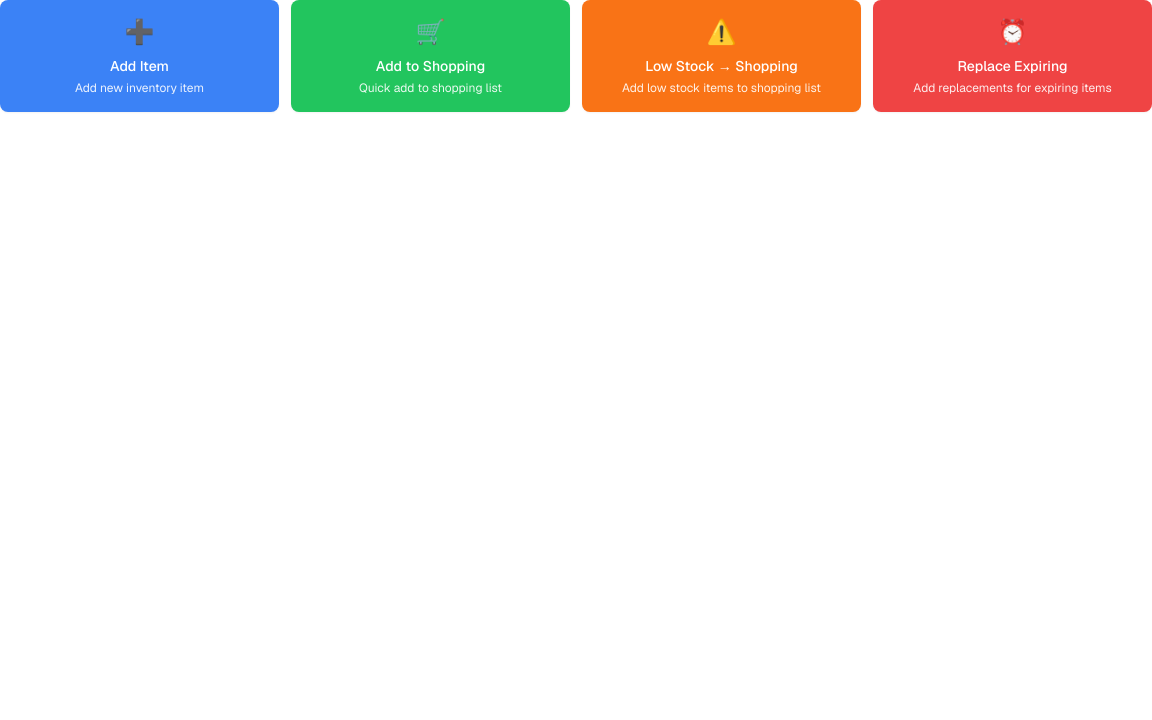
Test: QuickActionsPanel › opens add item modal when clicked
Click the text "Add Item" at (139,66), box [110, 57, 169, 75]
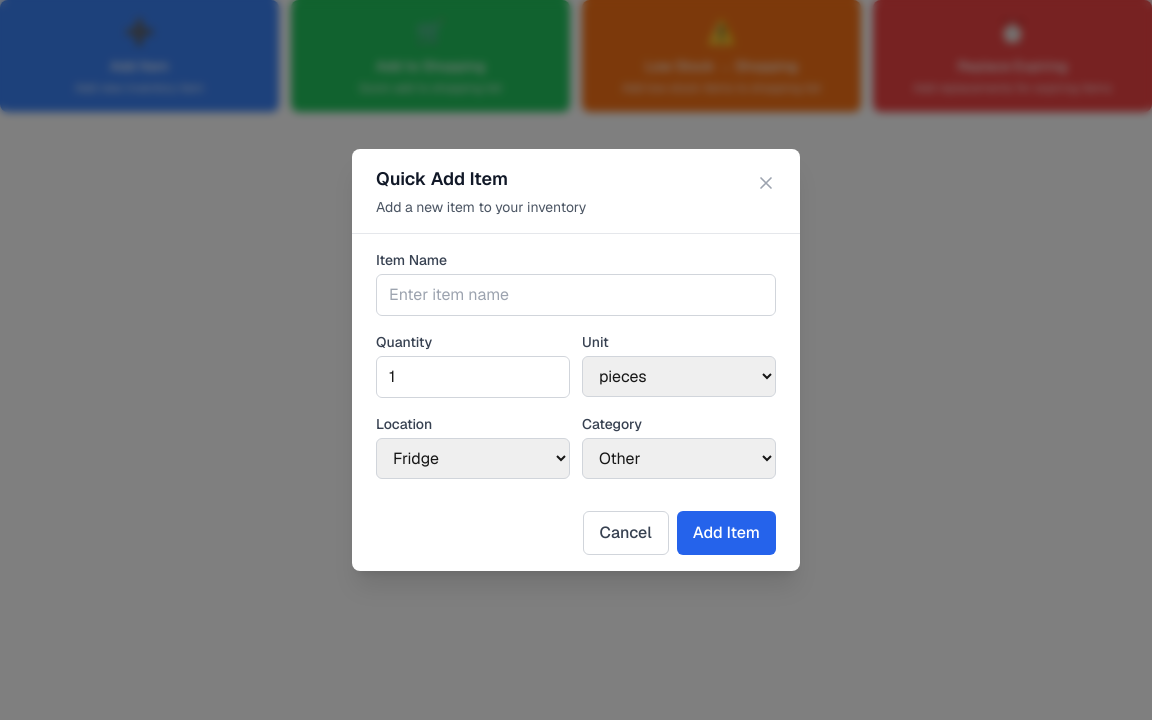
Now the heading "Quick Add Item" is shown, box [376, 167, 508, 190]
Now the text "Add a new item to your inventory" is shown, box [376, 198, 586, 216]
